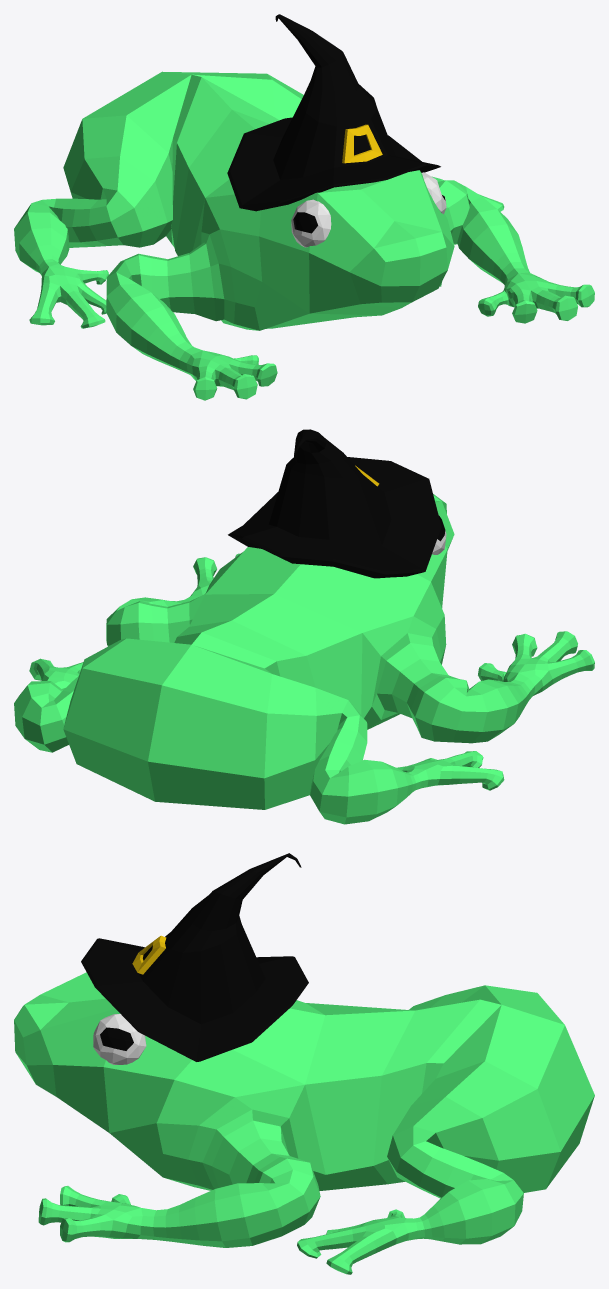
File: Frogg.fbx
3 renders of one model, top to bottom at view 1: azimuth 30°, elevation 25°; view 2: azimuth 150°, elevation 25°; view 3: azimuth 270°, elevation 25°, orthographic. The views are drawn at different scales.
Visible parts, largest first — view 1: Frogg, Cylinder.005; view 2: Frogg, Cylinder.005; view 3: Frogg, Cylinder.005.
Boxes of the visible parts, bbox=[...] form: Frogg: bbox=[14, 71, 594, 400]; Cylinder.005: bbox=[227, 14, 440, 211]; Frogg: bbox=[14, 494, 594, 824]; Cylinder.005: bbox=[228, 429, 441, 578]; Frogg: bbox=[14, 972, 594, 1274]; Cylinder.005: bbox=[81, 853, 308, 1061].
Size of the model in its own units: 737 by 417 by 736.
